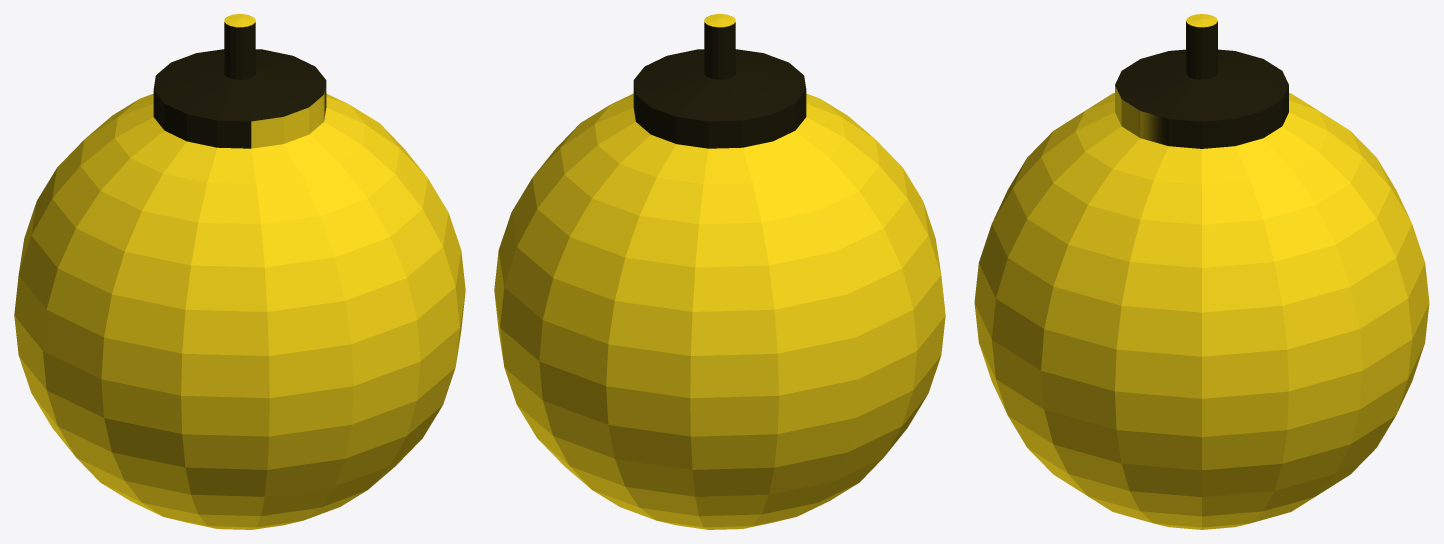
The model's file is ball.gltf.
The picture shows the model from 3 angles, left to right: view 1: azimuth 30°, elevation 25°; view 2: azimuth 150°, elevation 25°; view 3: azimuth 270°, elevation 25°; orthographic projection.
Parts seen in each view (by area): view 1: bakudan; view 2: bakudan; view 3: bakudan.
Part boxes in pixels (x1,y1,x2,y2): bakudan: (14,14,465,529); bakudan: (494,14,945,529); bakudan: (974,14,1429,529).
Bounding box in the file's own units: 5.02 × 5.96 × 5.02.
Materials: 1 (1 with a texture image).
